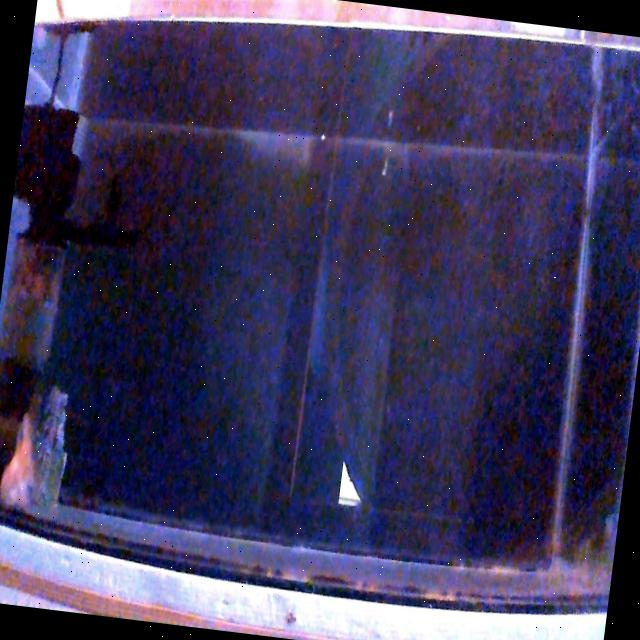fish: (0, 403, 46, 508)
